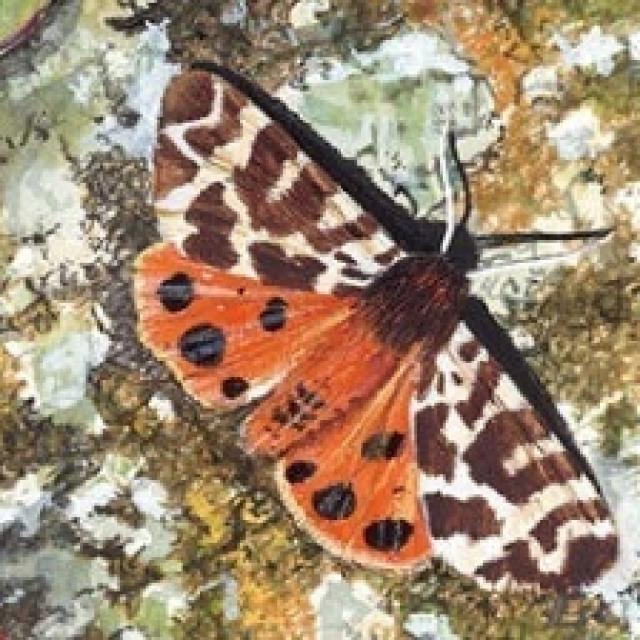butterfly: (129, 54, 620, 597)
